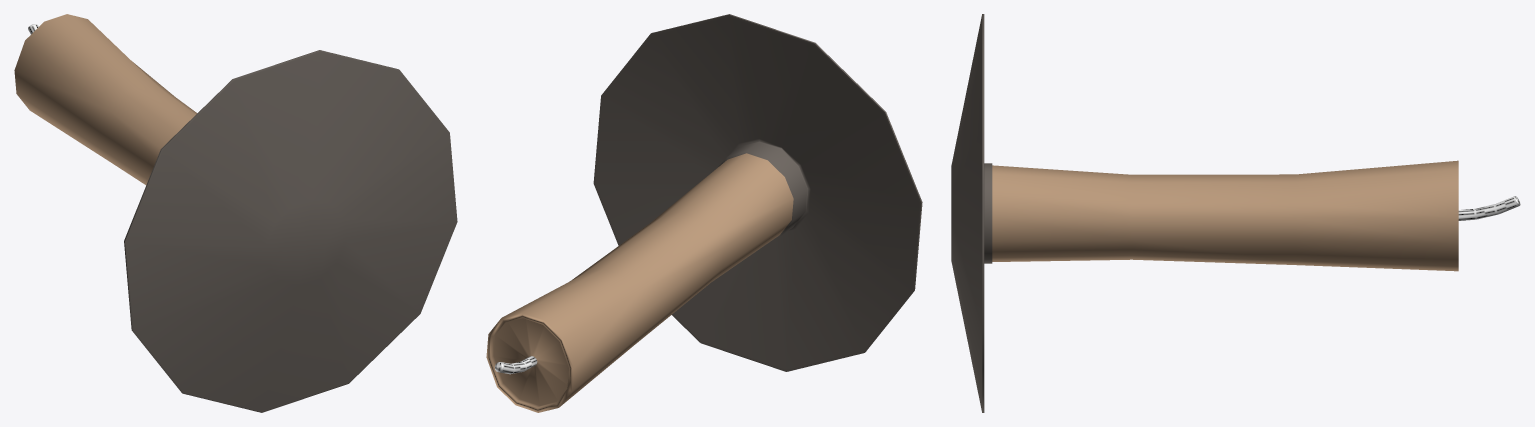
File: Vela Fin.FBX
3 views of the same model, side by side, from view 1: azimuth 30°, elevation 25°; view 2: azimuth 150°, elevation 25°; view 3: azimuth 270°, elevation 25° (orthographic). The views are drawn at different scales.
Parts seen in each view (by area): view 1: Vela; view 2: Vela; view 3: Vela.
Boxes of the visible parts, box(x1,y1,x2,y2) form: Vela: box(14, 14, 457, 412); Vela: box(486, 14, 922, 412); Vela: box(951, 14, 1520, 412).
Size of the model in its own units: 8.05 by 8.05 by 11.61.
Materials: 1 (1 with a texture image).
